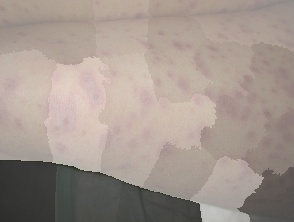SJS-TEN: (0, 10, 294, 215)
